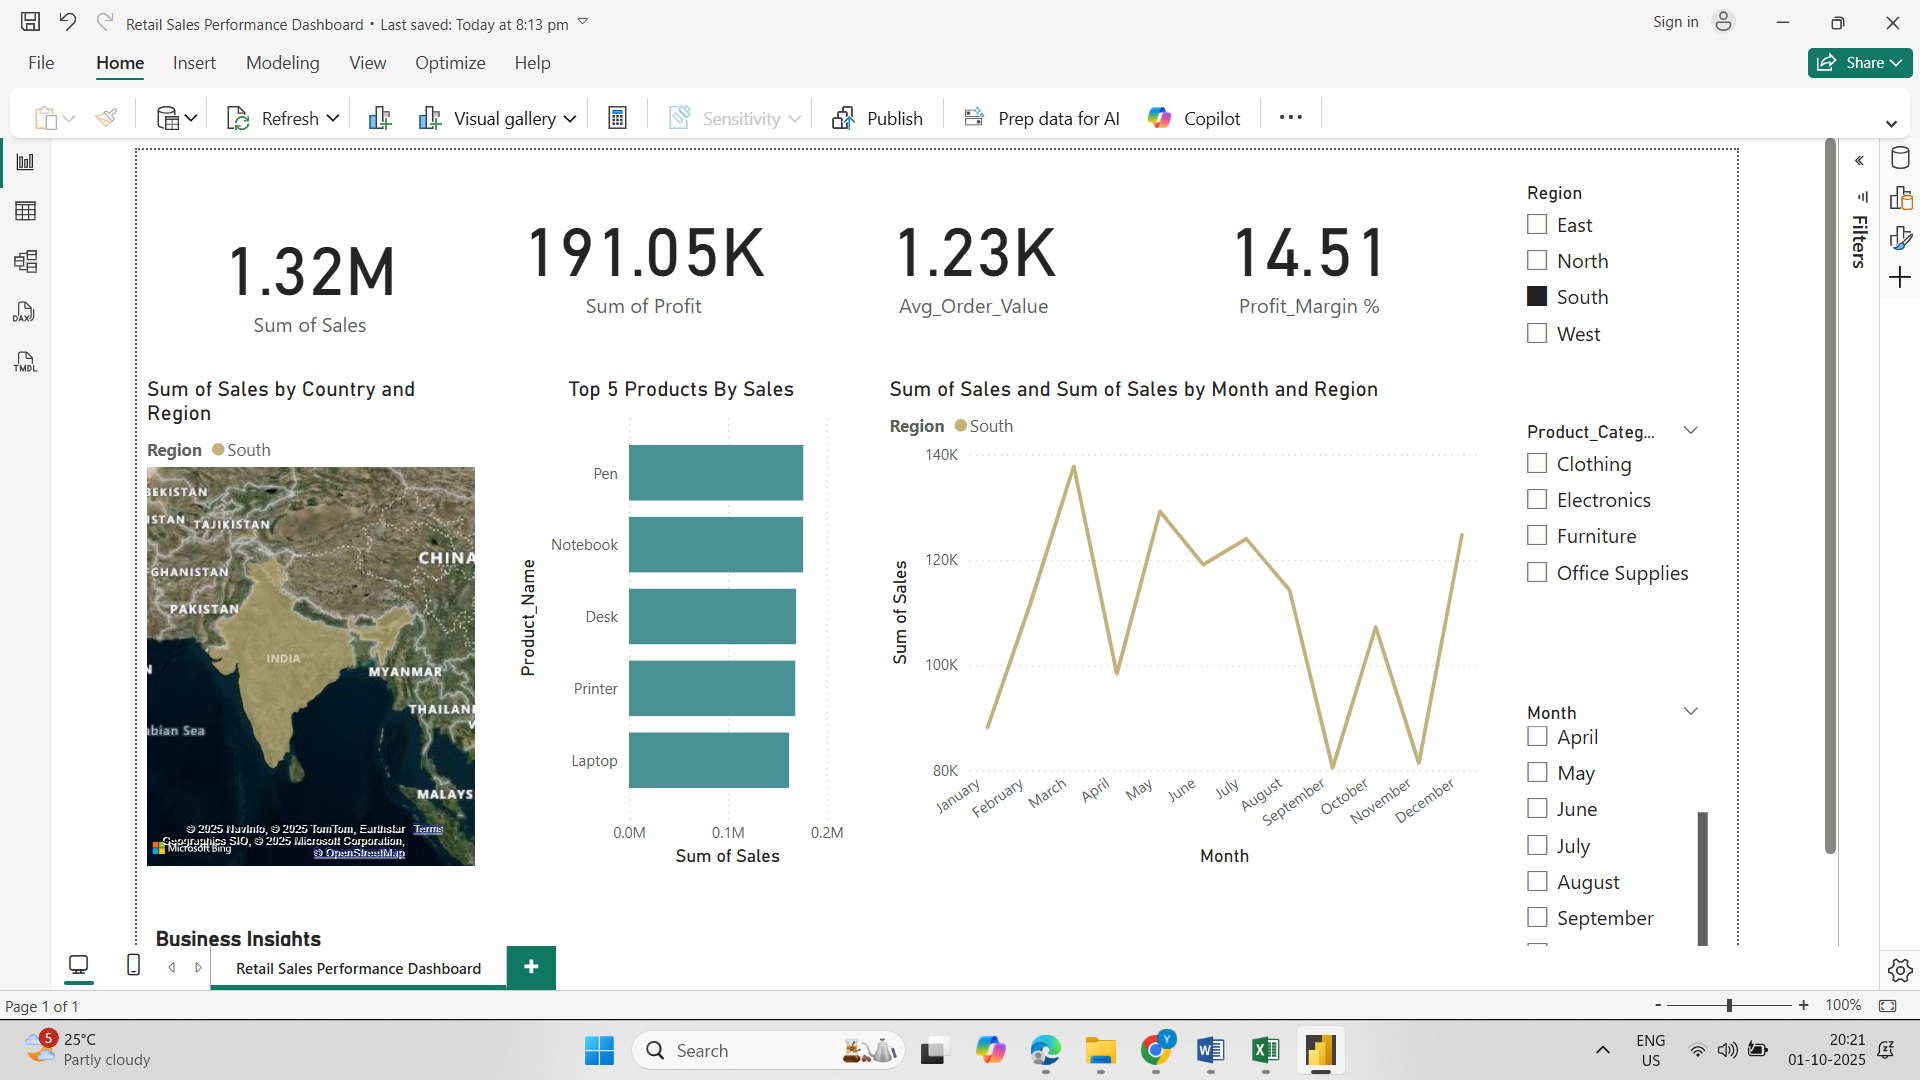

What the dashboard file says about the page in this screenshot:
{"tool":"powerbi","page":{"name":"Retail Sales Performance Dashboard","canvas":[1280,720],"ordinal":0},"visuals":[{"type":"card","fields":{"Values":["Sum(Retail_Sales_Dashboard_Dataset_.Sales)"]},"box":[10.1,21.4,257,160.1],"z":0},{"type":"card","fields":{"Values":["Sum(Retail_Sales_Dashboard_Dataset_.Profit)"]},"box":[281.8,21.4,246.8,129.6],"z":1},{"type":"card","fields":{"Values":["Retail_Sales_Dashboard_Dataset_.Avg_Order_Value"]},"box":[551.2,21.4,236.7,129.6],"z":2},{"type":"card","fields":{"Values":["Retail_Sales_Dashboard_Dataset_.Profit_Margin %"]},"box":[818.3,21.4,240.1,129.6],"z":3},{"type":"filledMap","fields":{"Category":["Retail_Sales_Dashboard_Dataset_.Country"],"Series":["Retail_Sales_Dashboard_Dataset_.Region"]},"box":[3.4,181.5,271.6,396.7],"z":4},{"type":"clusteredBarChart","title":"Top 5 Products By Sales","fields":{"Category":["Retail_Sales_Dashboard_Dataset_.Product_Name"],"Y":["Sum(Retail_Sales_Dashboard_Dataset_.Sales)"]},"box":[299.8,181.5,271.6,396.7],"z":5},{"type":"lineChart","fields":{"Category":["Retail_Sales_Dashboard_Dataset_.Order_Date.Variation.Date Hierarchy.Month"],"Y":["Sum(Retail_Sales_Dashboard_Dataset_.Sales)"],"Series":["Retail_Sales_Dashboard_Dataset_.Region"]},"box":[597.4,181.5,481.3,396.7],"z":6},{"type":"slicer","fields":{"Values":["Retail_Sales_Dashboard_Dataset_.Region"]},"box":[1098.9,21.4,163.4,160.1],"z":8},{"type":"slicer","fields":{"Values":["Retail_Sales_Dashboard_Dataset_.Product_Category"]},"box":[1098.9,211.9,163.4,172.4],"z":9},{"type":"slicer","fields":{"Values":["Retail_Sales_Dashboard_Dataset_.Order_Date.Variation.Date Hierarchy.Month"]},"box":[1098.9,437.3,163.4,282.9],"z":10},{"type":"textbox","title":"Business Insights","box":[10.1,621,1068.5,99.2],"z":11}]}

Visuals, with their boxes on the page's 1280x720 design canvas (x1, y1, x2, y2). These are canvas units, not pixel positions in the 1920x1080 screenshot, which may show the page scaled, cropped or inside an application window:
card - Sum(Retail_Sales_Dashboard_Dataset_.Sales): l=10, t=21, r=267, b=182
card - Sum(Retail_Sales_Dashboard_Dataset_.Profit): l=282, t=21, r=529, b=151
card - Retail_Sales_Dashboard_Dataset_.Avg_Order_Value: l=551, t=21, r=788, b=151
card - Retail_Sales_Dashboard_Dataset_.Profit_Margin %: l=818, t=21, r=1058, b=151
filledMap - Retail_Sales_Dashboard_Dataset_.Country x Retail_Sales_Dashboard_Dataset_.Region: l=3, t=182, r=275, b=578
"Top 5 Products By Sales" clusteredBarChart: l=300, t=182, r=571, b=578
lineChart - Retail_Sales_Dashboard_Dataset_.Order_Date.Variation.Date Hierarchy.Month x Sum(Retail_Sales_Dashboard_Dataset_.Sales): l=597, t=182, r=1079, b=578
slicer - Retail_Sales_Dashboard_Dataset_.Region: l=1099, t=21, r=1262, b=182
slicer - Retail_Sales_Dashboard_Dataset_.Product_Category: l=1099, t=212, r=1262, b=384
slicer - Retail_Sales_Dashboard_Dataset_.Order_Date.Variation.Date Hierarchy.Month: l=1099, t=437, r=1262, b=720
"Business Insights" textbox: l=10, t=621, r=1079, b=720
